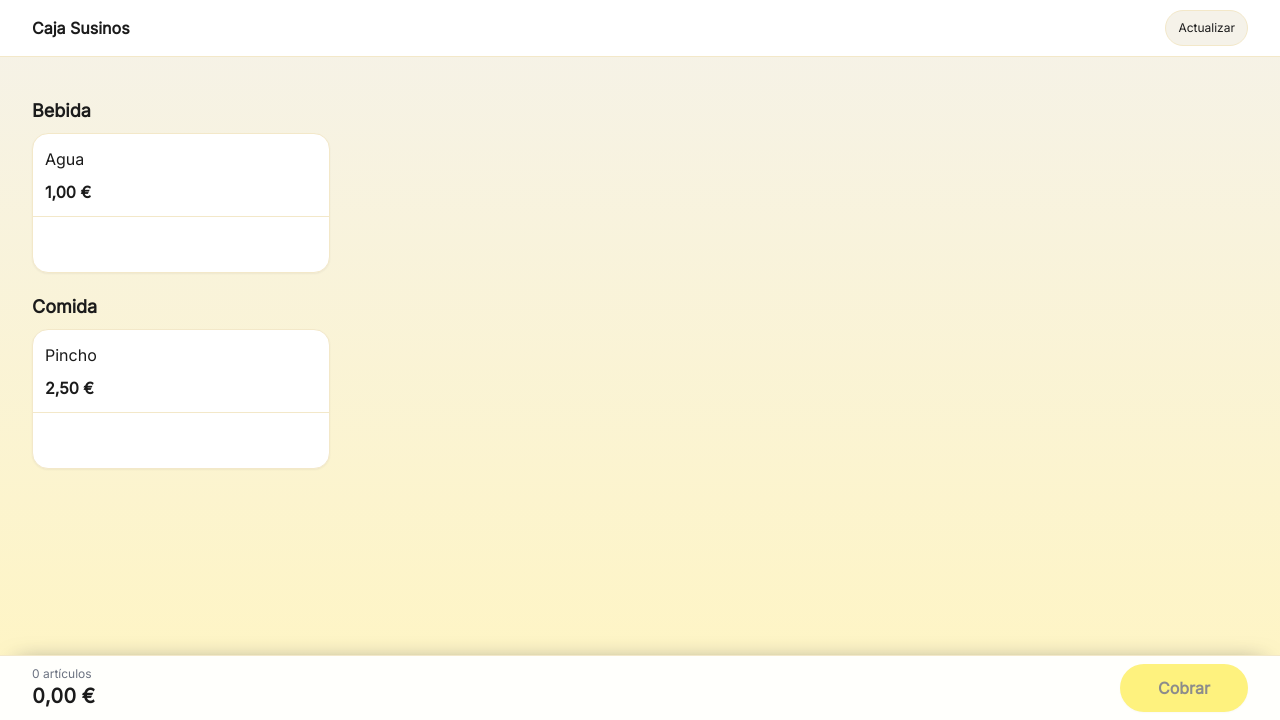
Test: Caja product catalog › confirms clearing all items locally and resets cards, count, total, and Cobrar
This screenshot has width=1280, height=720.
Click the button with aria-label "Añadir Agua a la comanda".
click(65, 159)  # box [33, 134, 329, 216]
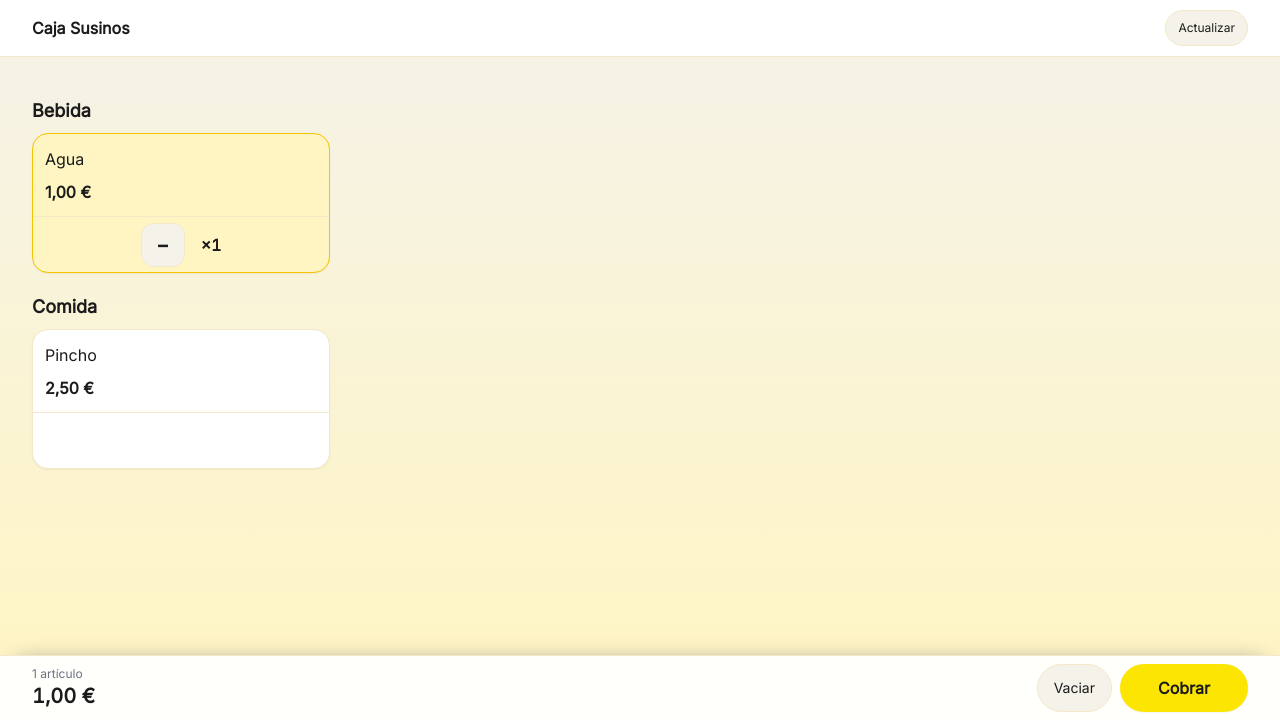
Click the button with aria-label "Añadir Agua a la comanda".
click(65, 159)  # box [33, 134, 329, 216]
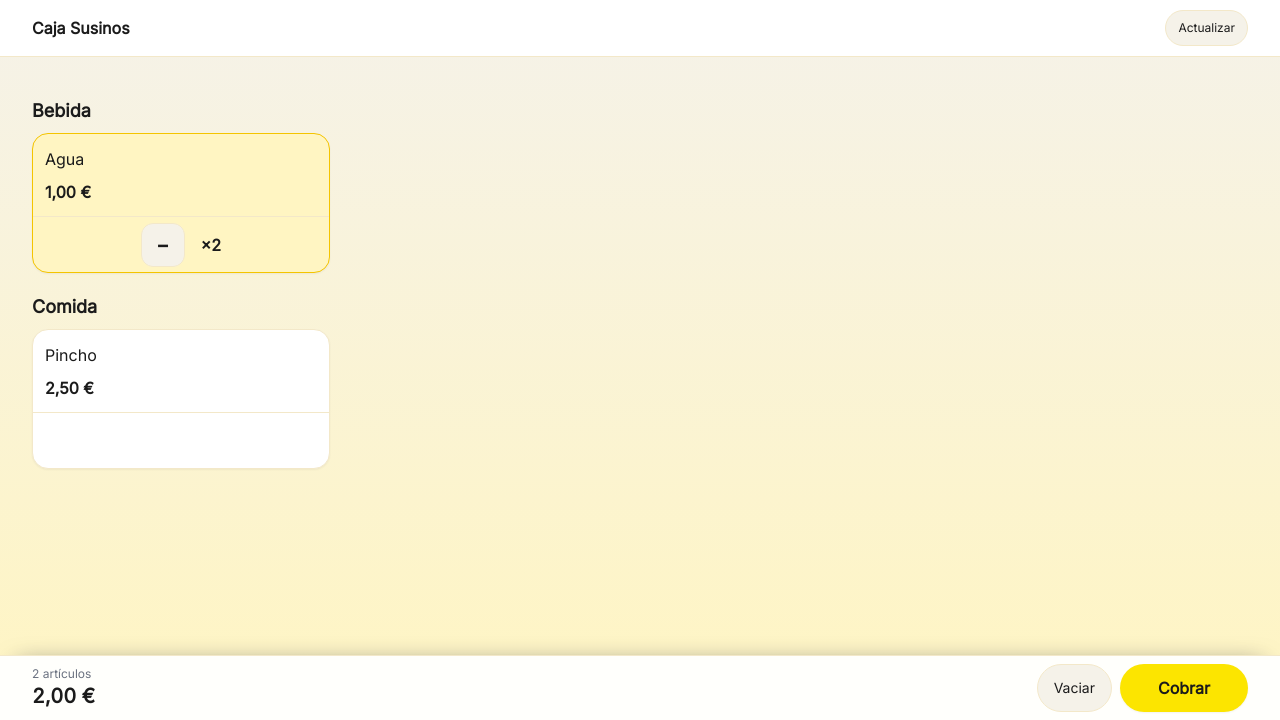
Click the button with aria-label "Añadir Pincho a la comanda".
click(71, 355)  # box [33, 330, 329, 412]
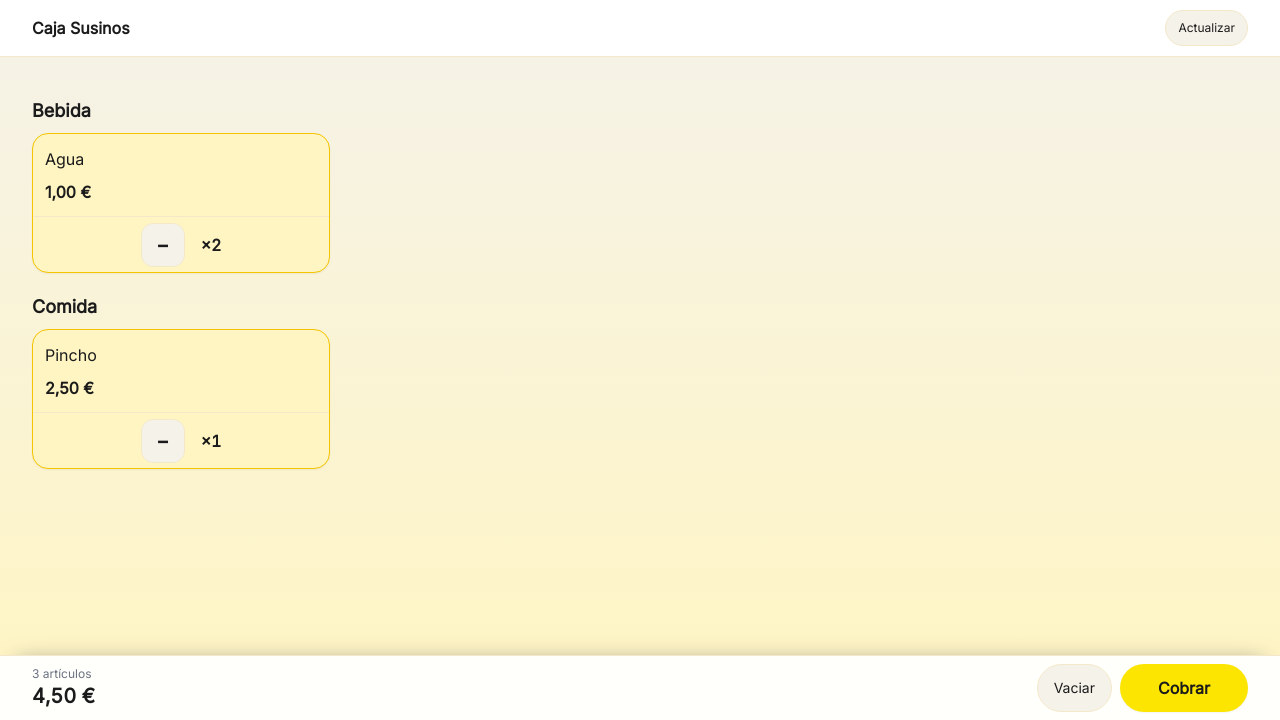
Click the button "Vaciar".
click(1074, 688)  # box [1037, 664, 1112, 712]
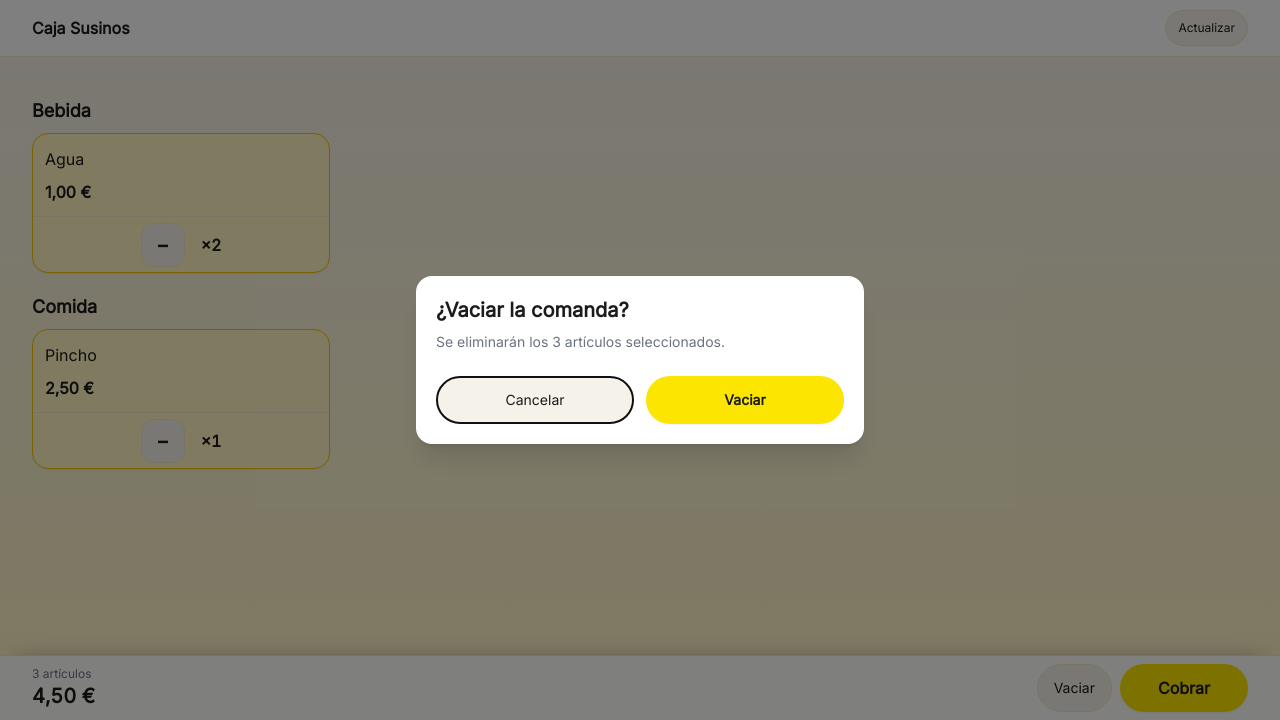
Now the dialog "¿Vaciar la comanda?" shows "Se eliminarán los 3 artículos seleccionados.", box [416, 276, 864, 444]
Click the button "Vaciar".
click(745, 400)  # box [646, 376, 844, 424]
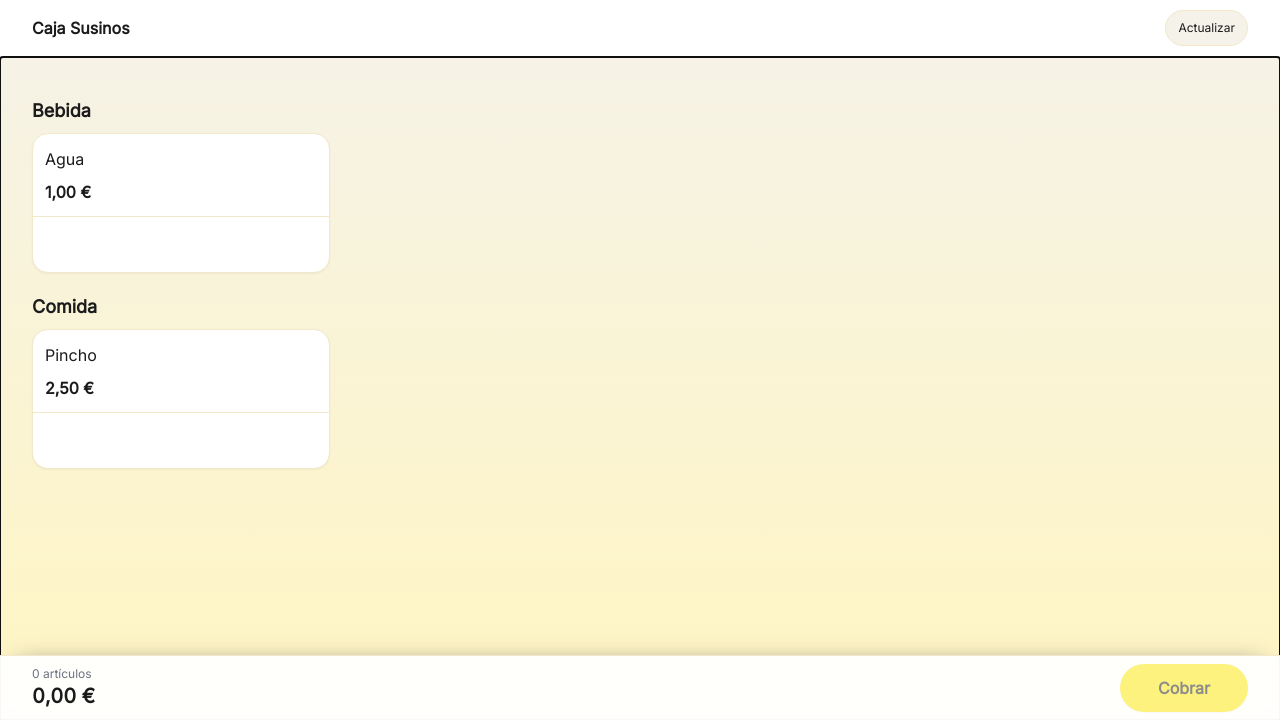
Now the dialog is gone
Now the text named "Número de artículos" reads "0 artículos", box [32, 666, 95, 682]
Now the text named "Total de la comanda" reads "0,00 €", box [32, 684, 95, 708]
